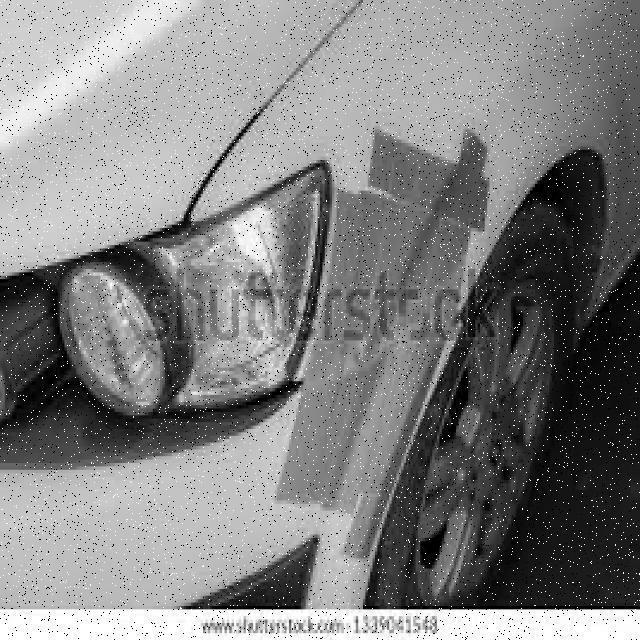fender-dent: (244, 13, 638, 377)
